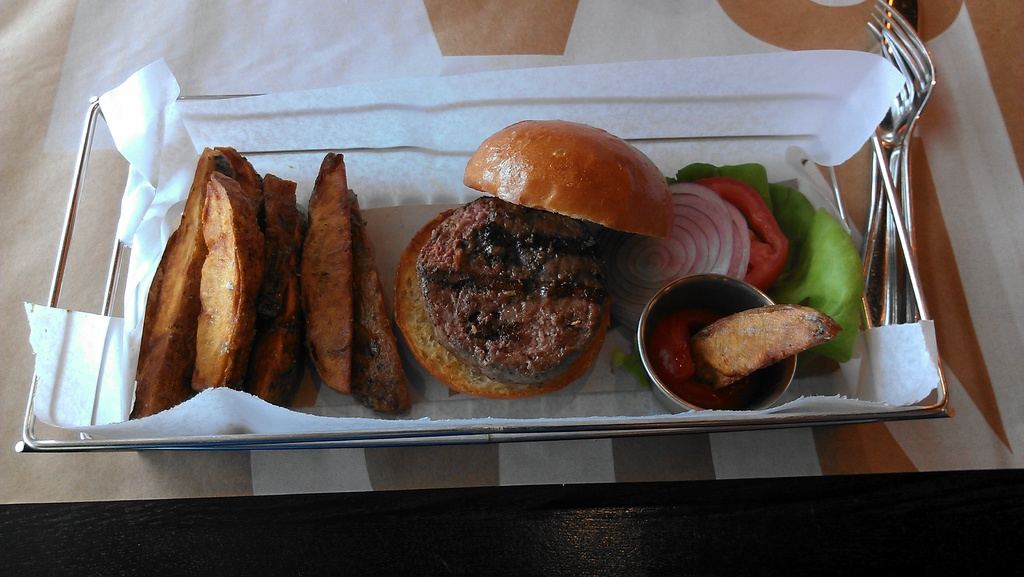Hamburger: (396, 119, 671, 406)
